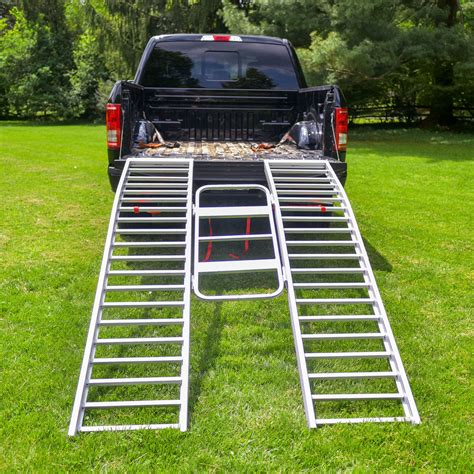Yard Ramp: (64, 156, 424, 441)
